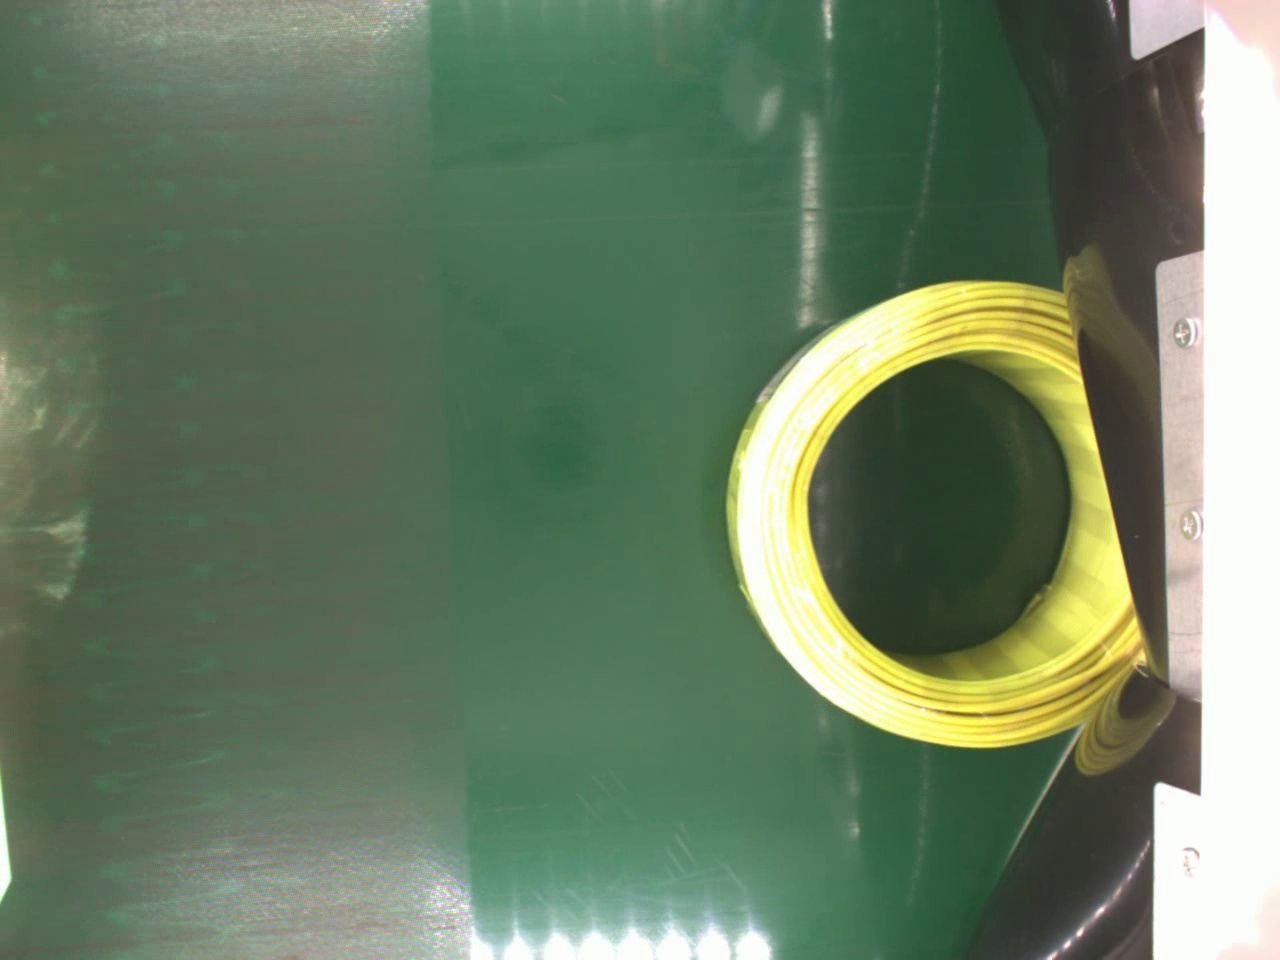yellow: (732, 271, 1130, 740)
